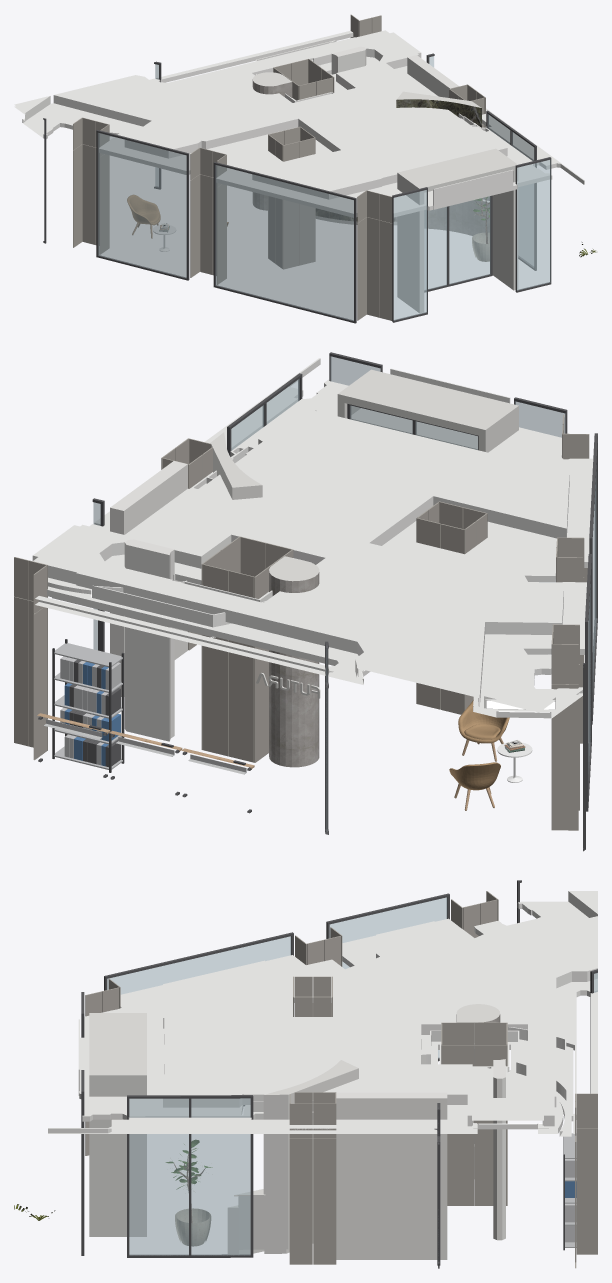
The model's file is reception.glb.
3 views of the same model, one above another, from view 1: azimuth 30°, elevation 25°; view 2: azimuth 150°, elevation 25°; view 3: azimuth 270°, elevation 25° (orthographic). The views are drawn at different scales.
Visible parts, largest first — view 1: PO Cartongesso, PO Vetro, PO Legno laccato opaco, senza_materiale, PO Profilo nero opaco, Materiale3, PO Muro, Materiale4, hay_greyfelt, Concrete Walls; view 2: PO Cartongesso, PO Legno laccato opaco, PO Muro, senza_materiale, PO Vetro, PO Profilo nero opaco, Materiale3, hay_greyfelt, PO Raccoglitore grigio, PO Scaffale grigio, PO Raccoglitore nero, PO Raccoglitore blu (+3 smaller); view 3: PO Cartongesso, PO Legno laccato opaco, PO Vetro, senza_materiale, PO Muro, PO Profilo nero opaco, Concrete Walls, PO Raccoglitore grigio, PO Scaffale grigio.
Part boxes in pixels (x1,y1,x2,y2): PO Cartongesso: [14, 30, 584, 217]; PO Vetro: [98, 56, 550, 320]; PO Legno laccato opaco: [73, 14, 485, 320]; senza_materiale: [253, 72, 517, 312]; PO Profilo nero opaco: [43, 53, 551, 323]; Materiale3: [252, 79, 489, 235]; PO Muro: [331, 46, 459, 97]; Materiale4: [316, 99, 481, 221]; hay_greyfelt: [127, 195, 228, 226]; Concrete Walls: [472, 233, 489, 261]; PO Cartongesso: [32, 358, 593, 718]; PO Legno laccato opaco: [14, 414, 589, 830]; PO Muro: [110, 461, 187, 741]; senza_materiale: [210, 369, 518, 750]; PO Vetro: [93, 356, 596, 831]; PO Profilo nero opaco: [92, 352, 597, 851]; Materiale3: [269, 571, 319, 767]; hay_greyfelt: [449, 700, 509, 790]; PO Raccoglitore grigio: [60, 656, 120, 765]; PO Scaffale grigio: [54, 643, 122, 769]; PO Raccoglitore nero: [69, 659, 120, 767]; PO Raccoglitore blu: [64, 662, 120, 766]; PO Cartongesso: [48, 891, 597, 1136]; PO Legno laccato opaco: [85, 891, 597, 1268]; PO Vetro: [107, 897, 597, 1255]; senza_materiale: [89, 1004, 500, 1254]; PO Muro: [336, 1059, 505, 1259]; PO Profilo nero opaco: [81, 880, 597, 1268]; Concrete Walls: [175, 1208, 210, 1246]; PO Raccoglitore grigio: [565, 1159, 576, 1242]; PO Scaffale grigio: [563, 1133, 576, 1247].
Size of the model in its own units: 9.2 by 3.14 by 10.
Materials: 69 (24 with a texture image).
